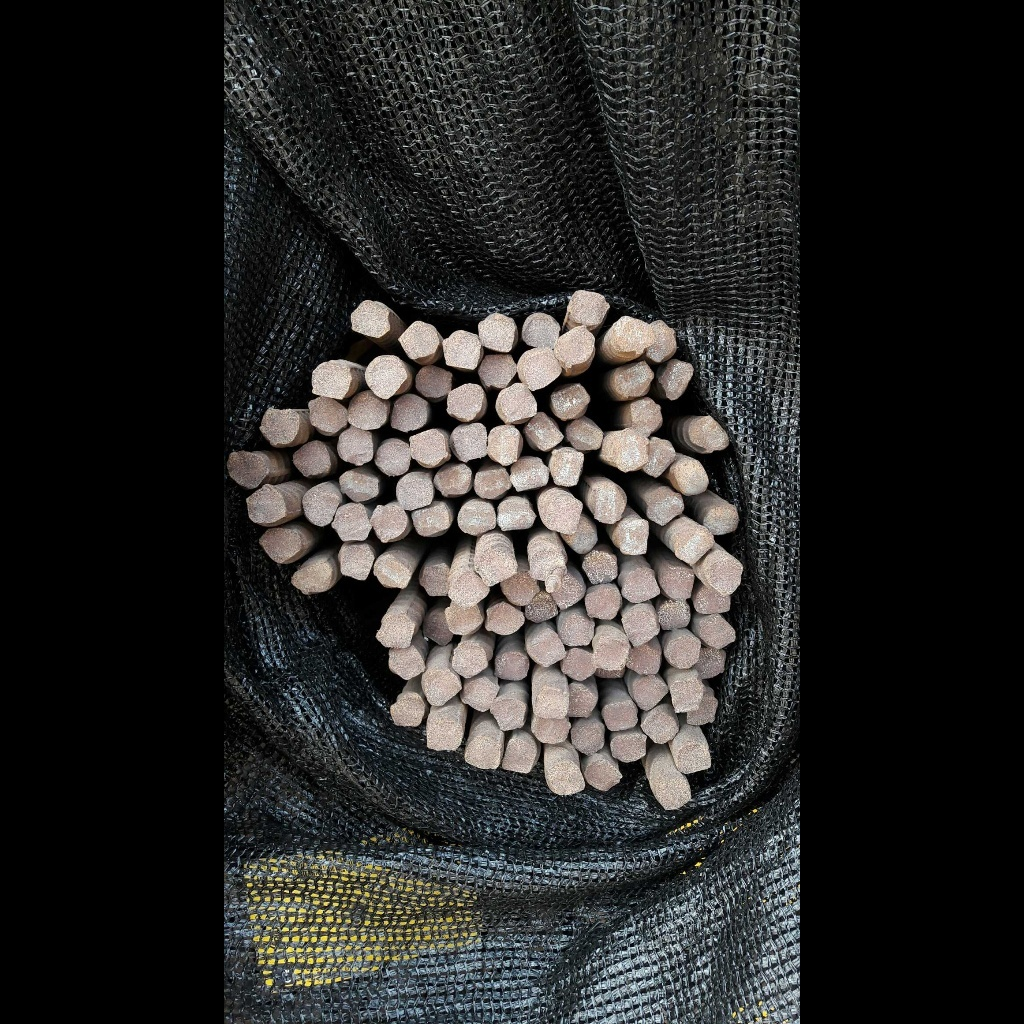dipstick: (365, 355, 408, 400), (517, 348, 561, 390), (673, 525, 714, 565), (311, 361, 352, 400), (496, 382, 537, 421), (443, 330, 482, 370), (246, 485, 286, 524), (398, 320, 439, 358), (614, 429, 650, 472), (589, 483, 626, 524), (476, 550, 518, 586), (350, 300, 390, 337), (348, 392, 388, 429), (478, 313, 515, 353), (613, 361, 654, 397), (556, 326, 594, 364), (227, 451, 266, 488), (332, 503, 371, 540), (422, 668, 461, 705), (529, 627, 566, 666), (457, 499, 496, 536), (259, 408, 299, 444), (303, 486, 339, 526), (615, 316, 655, 352), (657, 360, 693, 400), (448, 571, 489, 606), (447, 383, 484, 421), (337, 427, 374, 465), (545, 497, 583, 534), (522, 312, 560, 349), (526, 412, 563, 450), (309, 396, 348, 432), (569, 290, 608, 326), (409, 428, 446, 465), (293, 440, 330, 477), (390, 394, 428, 430), (375, 437, 411, 475), (372, 504, 408, 542), (396, 471, 432, 509), (374, 553, 413, 588), (412, 501, 451, 536), (549, 447, 584, 486), (622, 568, 661, 603), (262, 528, 302, 562), (500, 572, 540, 606), (427, 713, 463, 750), (510, 455, 548, 490), (453, 422, 487, 461), (643, 436, 675, 477), (548, 760, 585, 795), (552, 384, 589, 419), (488, 425, 522, 463), (376, 615, 415, 648), (486, 602, 525, 635), (474, 465, 511, 499), (646, 492, 683, 526), (478, 354, 516, 387), (390, 692, 425, 727), (453, 643, 488, 678), (340, 543, 374, 579), (582, 550, 618, 584), (623, 613, 660, 646), (709, 559, 742, 596), (693, 417, 730, 450), (630, 398, 663, 435), (291, 563, 333, 592), (445, 604, 483, 636), (339, 471, 379, 501), (465, 677, 499, 712), (502, 739, 537, 773), (665, 635, 700, 669), (389, 646, 425, 679), (415, 365, 452, 397), (585, 759, 622, 791), (497, 499, 535, 530), (675, 459, 709, 493), (567, 417, 602, 450), (615, 519, 648, 554), (633, 677, 668, 710), (464, 737, 500, 769), (553, 572, 585, 608), (700, 615, 736, 647), (434, 464, 471, 495), (641, 713, 678, 744), (490, 698, 525, 730), (585, 588, 621, 619), (657, 777, 691, 809), (559, 614, 594, 645), (423, 609, 452, 646), (533, 716, 571, 744), (572, 720, 604, 753), (595, 638, 628, 670), (604, 700, 638, 731), (676, 743, 710, 774), (529, 550, 565, 579), (610, 733, 646, 762), (650, 320, 675, 361), (671, 681, 703, 713), (535, 687, 568, 718), (564, 648, 595, 681), (661, 568, 694, 599), (695, 586, 731, 614), (526, 592, 558, 622), (658, 600, 691, 629), (495, 652, 529, 680), (704, 507, 738, 535), (421, 563, 449, 596), (568, 683, 596, 716), (627, 647, 660, 675), (687, 694, 717, 724), (569, 523, 598, 553), (699, 647, 726, 679)
